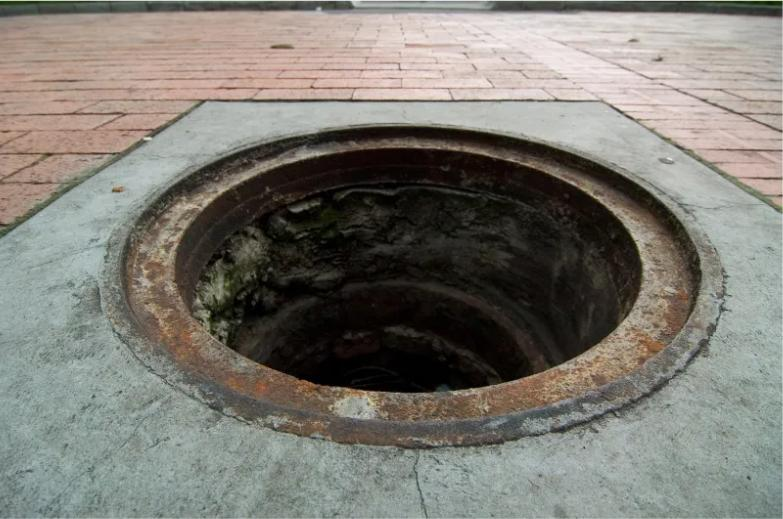wellcover: (112, 92, 739, 439)
